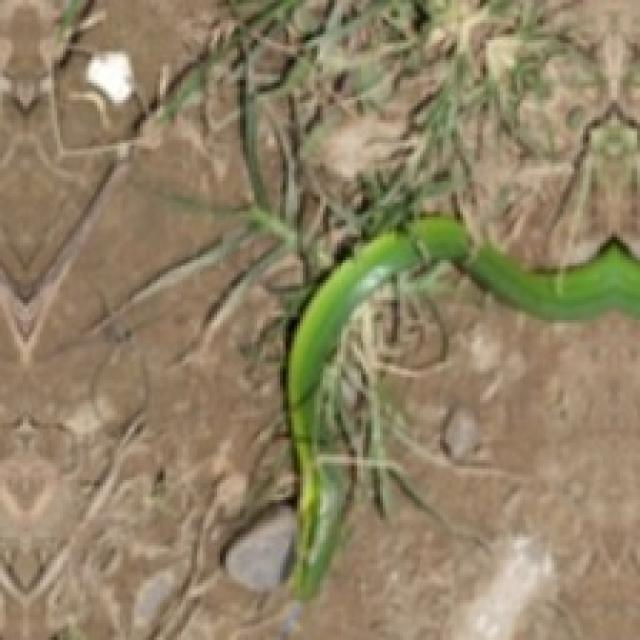red-tailed green ratsnake: (286, 217, 637, 594)
